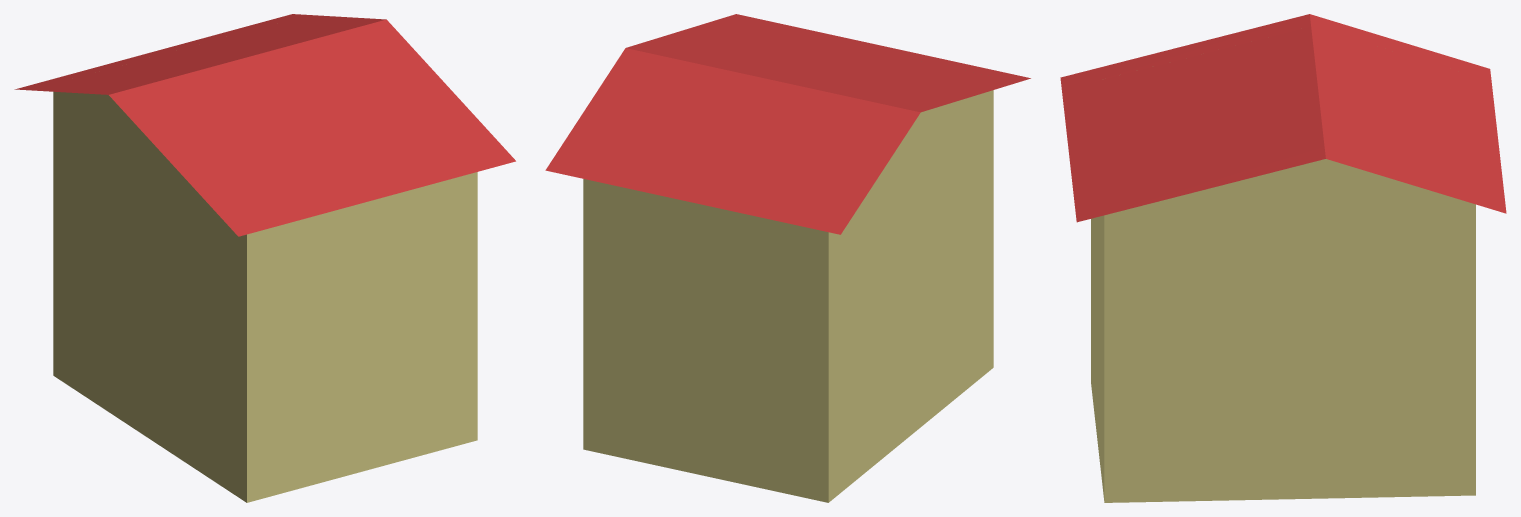
3 views of the same model, side by side, from view 1: azimuth 30°, elevation 25°; view 2: azimuth 150°, elevation 25°; view 3: azimuth 270°, elevation 25° (orthographic). The views are drawn at different scales.
Size of the model in its own units: 6.23 by 7.65 by 6.66.
